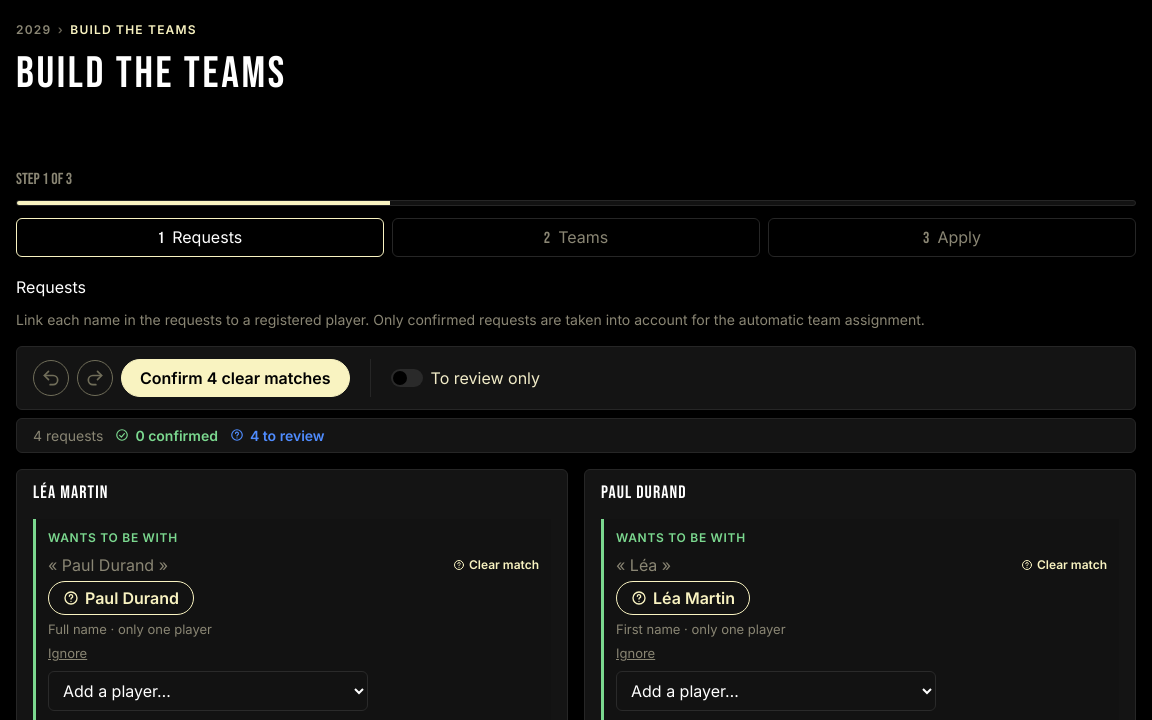
team builder page › shows the step progress like the registration
The width and height of the screenshot is (1152, 720).
Expected: the text "Step 1 of 3" is shown, 16,170 -> 72,189
Step 1. Click the button "2 Teams" → (576, 238), box 392,218 -> 760,257
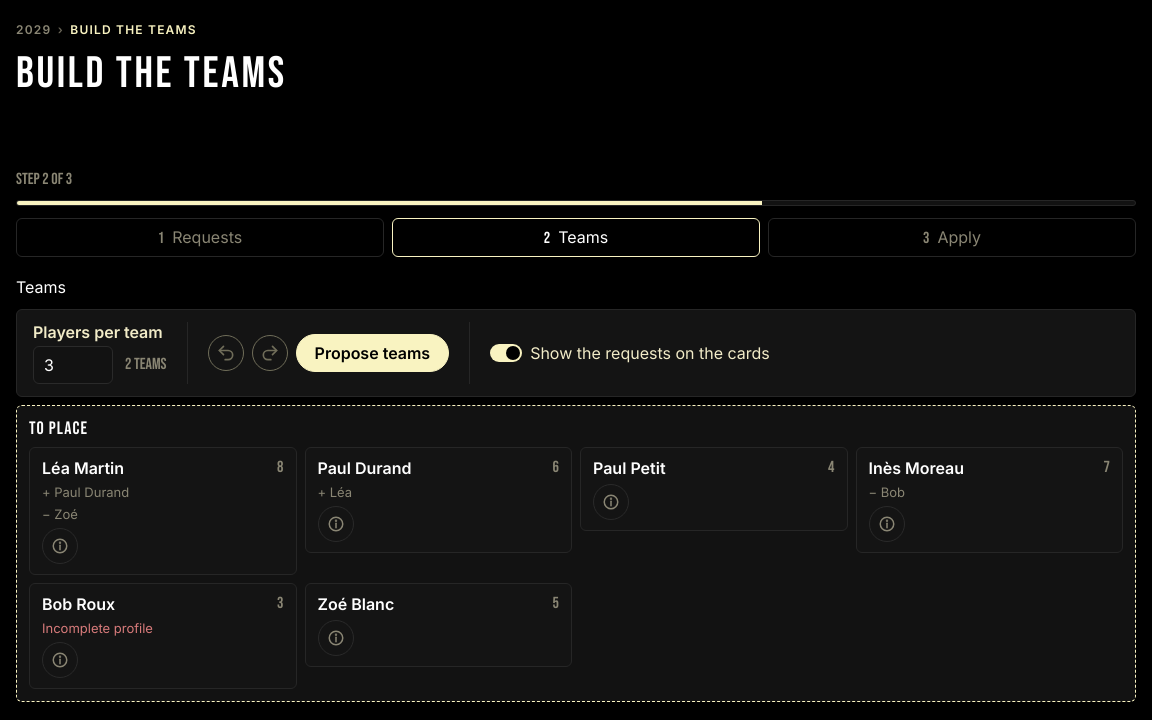
Now the text "Step 2 of 3" is shown, box 16,170 -> 72,189
